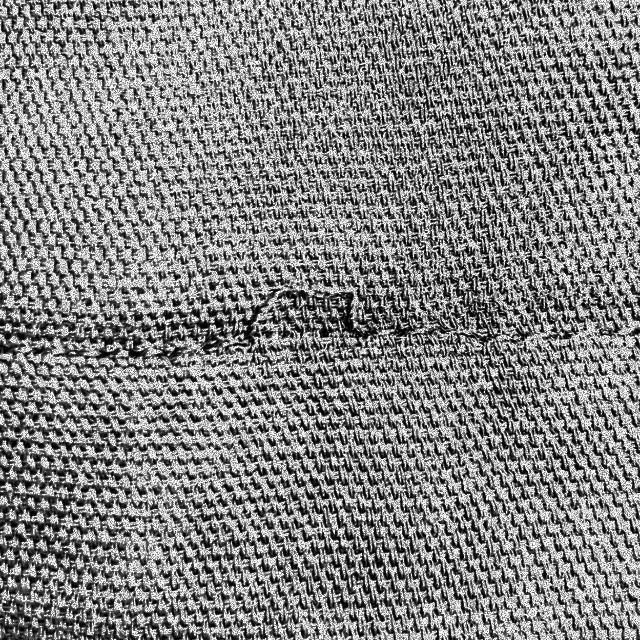Sewing_error: (230, 276, 392, 356)
